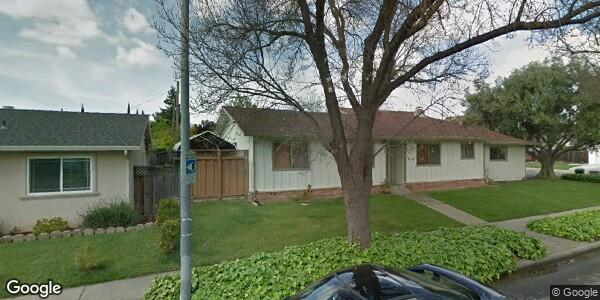Steel_Pole: (175, 2, 199, 298)
